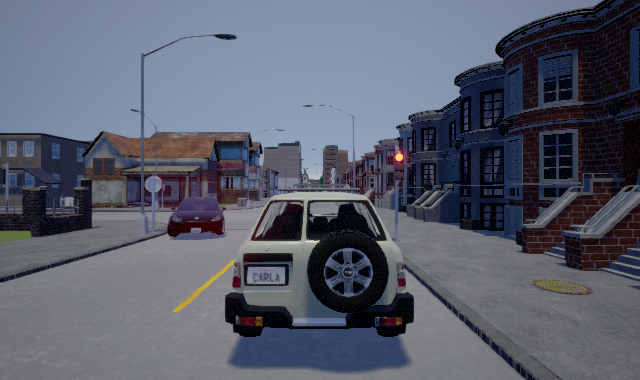traffic_light: (392, 152, 404, 180)
vehicle: (225, 184, 414, 337), (167, 197, 226, 237)
